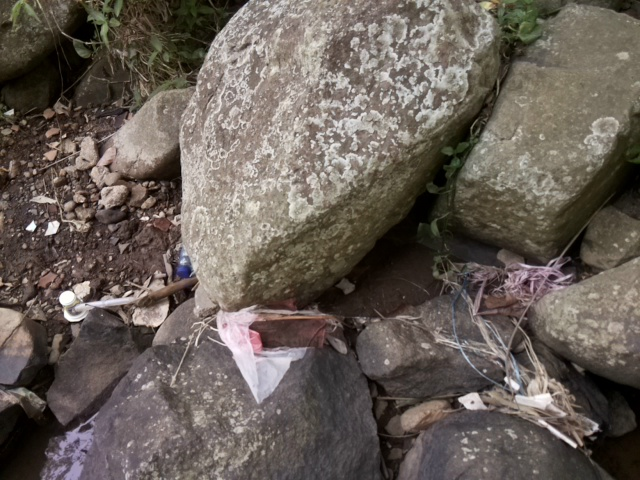Sampah_Botol_Plastik: (177, 242, 196, 282)
Sampah_Plastik: (219, 305, 340, 402), (462, 253, 585, 319)
Sampah_Styrofoam: (57, 290, 86, 320)
